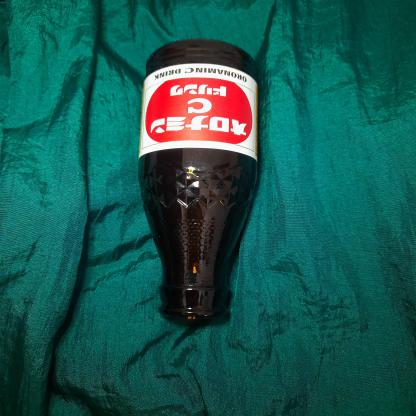bottle: (134, 30, 272, 335)
